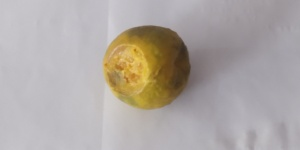BAD: (105, 24, 191, 106)
